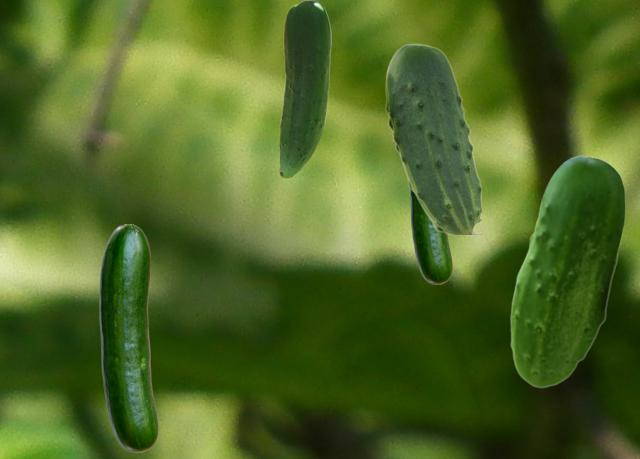cucumber: (510, 155, 624, 387), (385, 43, 480, 233), (99, 224, 157, 451), (279, 0, 330, 177), (409, 189, 451, 283)
